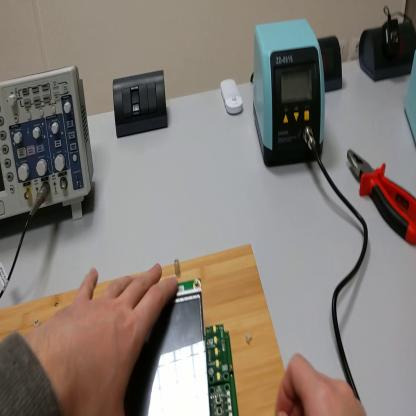hand: (37, 259, 180, 416), (276, 351, 366, 416)
low voltage board: (126, 277, 240, 415)
oscilloscope: (3, 66, 96, 224)
pliers: (348, 149, 415, 246)
socket: (358, 24, 416, 83), (319, 37, 345, 94)
welder base: (404, 53, 415, 153)
welder station: (253, 18, 325, 167)
working area: (3, 242, 299, 413)
